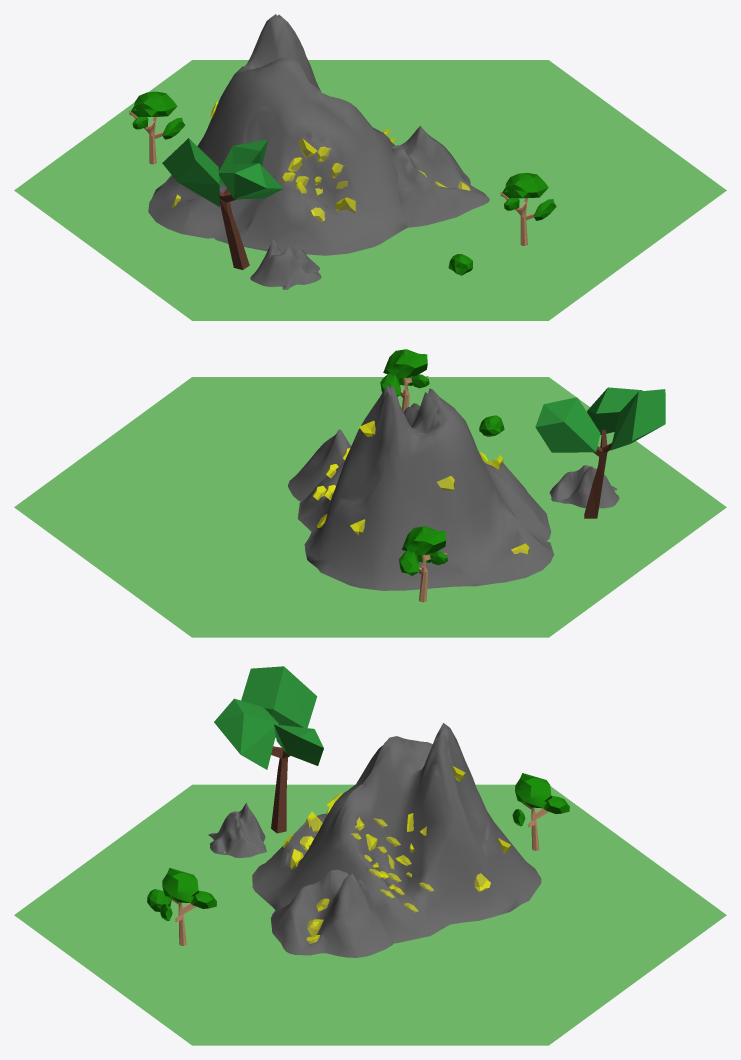
Rendered from Hexagone ressource or.fbx.
3 renders of one model, top to bottom at view 1: azimuth 30°, elevation 25°; view 2: azimuth 150°, elevation 25°; view 3: azimuth 270°, elevation 25°, orthographic.
Parts seen in each view (by area): view 1: Cylinder; view 2: Cylinder; view 3: Cylinder.
Boxes of the visible parts, x1,y1,x2,y2 form: Cylinder: (14, 14, 726, 320); Cylinder: (14, 349, 726, 637); Cylinder: (14, 666, 726, 1045).
Bounding box in the file's own units: 17.32 × 20 × 5.23.
